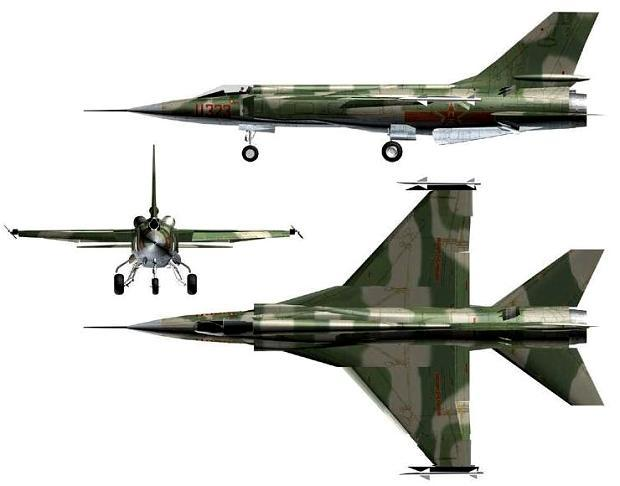airplane: (80, 179, 607, 476), (83, 10, 603, 160), (5, 143, 303, 296)
